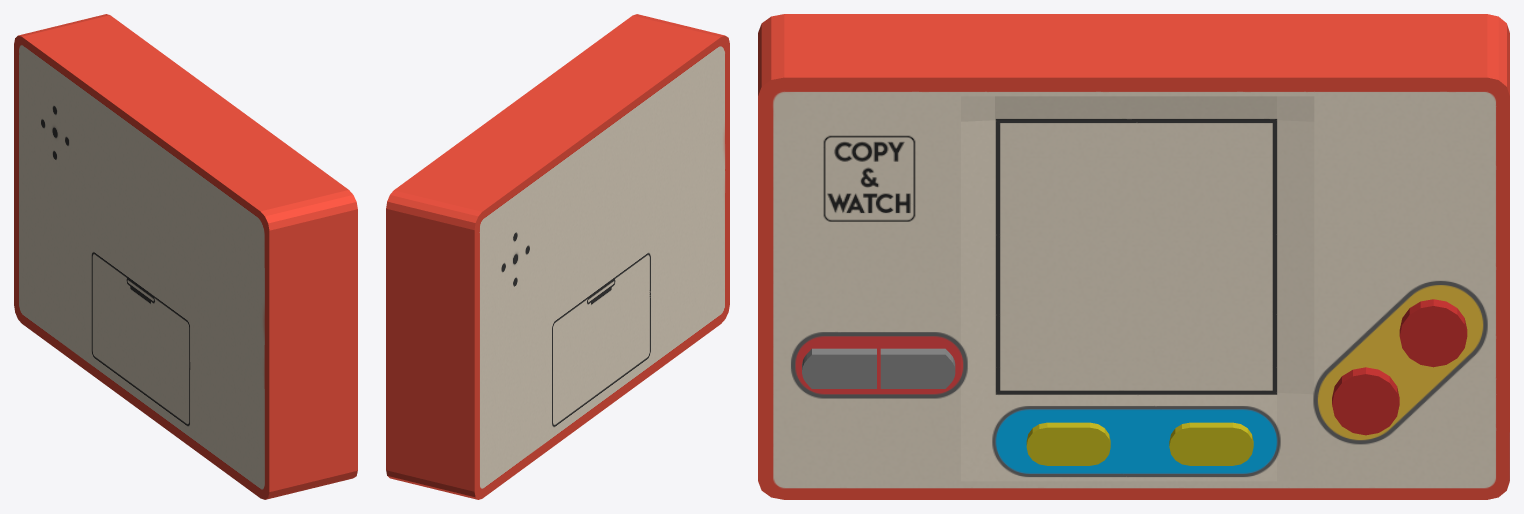
File: mdl_caw.fbx
3 renders of one model, left to right at view 1: azimuth 30°, elevation 25°; view 2: azimuth 150°, elevation 25°; view 3: azimuth 270°, elevation 25°, orthographic. The views are drawn at different scales.
Parts seen in each view (by area): view 1: GAME; view 2: GAME; view 3: GAME, A, B, BTN_02, BTN_01, RT, LT.
Boxes of the visible parts, x1,y1,x2,y2 form: GAME: (14, 14, 357, 499); GAME: (386, 14, 729, 499); GAME: (758, 14, 1509, 499); A: (1399, 299, 1467, 367); B: (1332, 367, 1399, 435); BTN_02: (1169, 422, 1253, 465); BTN_01: (1026, 422, 1110, 465); RT: (880, 348, 955, 388); LT: (802, 348, 876, 388).
Size of the model in its own units: 221 by 620 by 1000.
4 materials, 1 textured.
